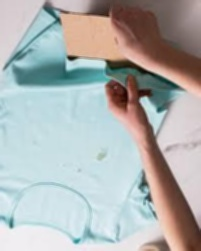oil: (95, 145, 117, 166), (57, 159, 69, 172), (78, 168, 84, 175)
